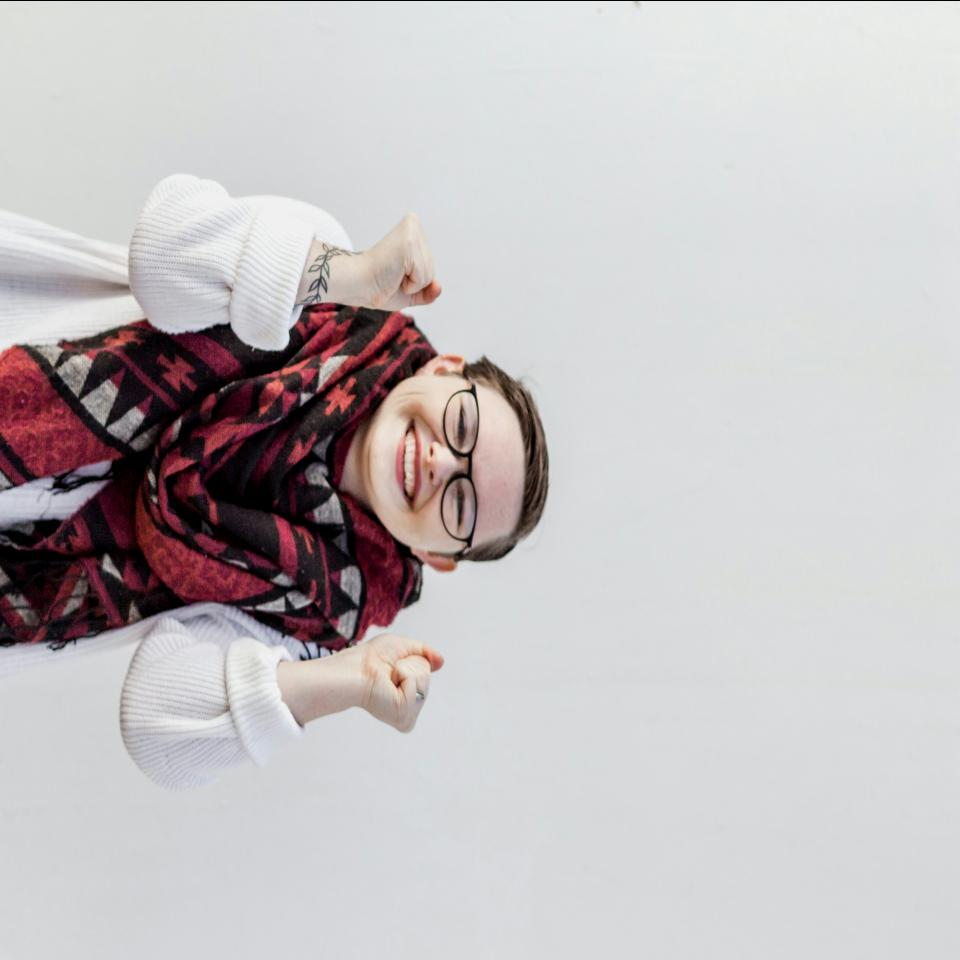Happiness: (368, 362, 516, 567)
